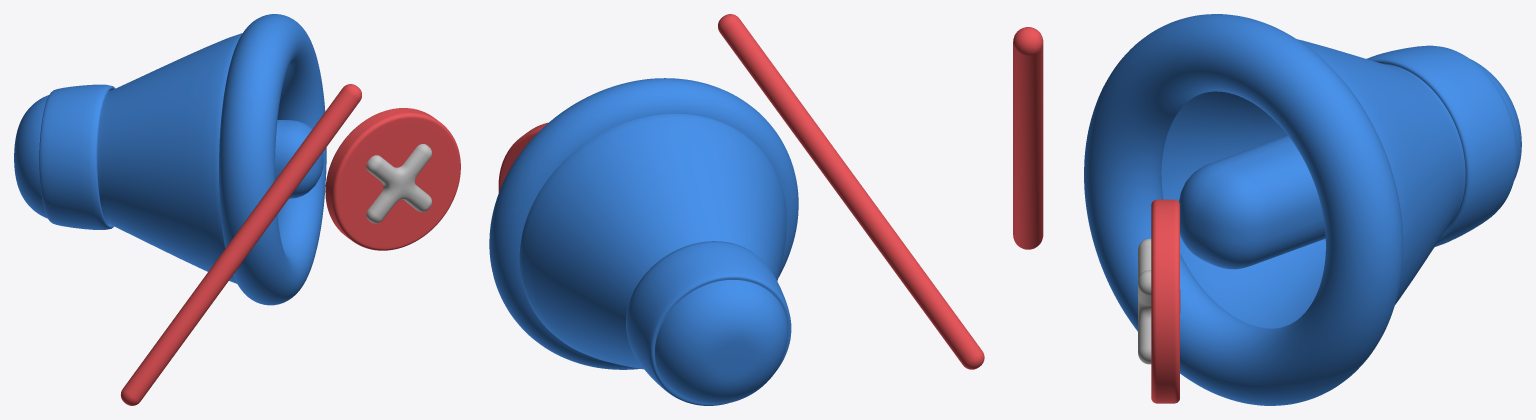
File: disable-volume-animated-3d-icon-362487311073.glb
3 renders of one model, left to right at view 1: azimuth 30°, elevation 25°; view 2: azimuth 150°, elevation 25°; view 3: azimuth 270°, elevation 25°, orthographic. The views are drawn at different scales.
Parts seen in each view (by area): view 1: Circle, Base, Disable Line, Circle.001, Cross, Cube; view 2: Circle, Disable Line, Circle.001, Base; view 3: Circle, Cube, Circle.001, Disable Line, Base, Cross.
Part boxes in pixels (x1,y1,x2,y2): Circle: [14, 14, 326, 305]; Base: [325, 108, 460, 250]; Disable Line: [120, 84, 361, 405]; Circle.001: [39, 84, 115, 229]; Cross: [366, 144, 431, 223]; Cube: [275, 120, 323, 198]; Circle: [489, 78, 798, 404]; Disable Line: [718, 14, 984, 369]; Circle.001: [626, 241, 791, 405]; Base: [498, 122, 548, 192]; Circle: [1084, 14, 1521, 405]; Cube: [1179, 135, 1325, 269]; Circle.001: [1366, 45, 1517, 246]; Disable Line: [1013, 27, 1043, 249]; Base: [1151, 199, 1180, 403]; Cross: [1138, 238, 1151, 364].
Bounding box in the file's own units: 2.41 × 1.59 × 2.
